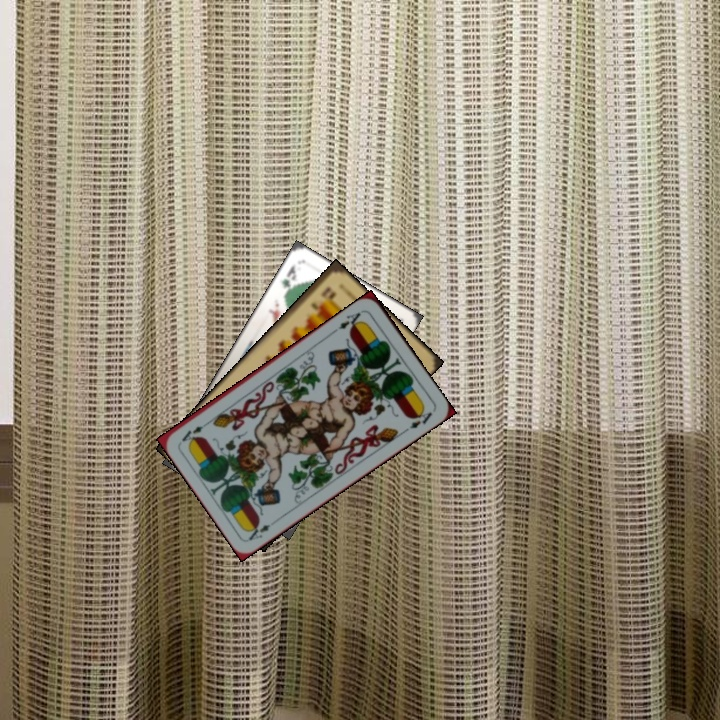E10: (307, 283, 336, 312)
EA: (330, 306, 365, 335), (244, 519, 274, 543)
GK: (277, 261, 299, 298)
